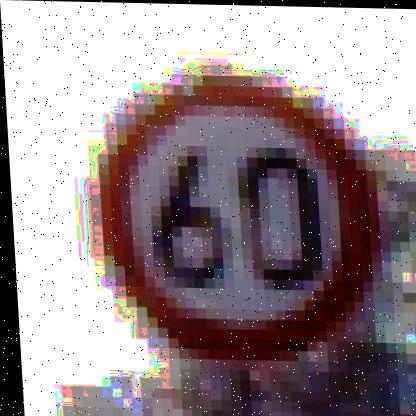Speed Limit -60-: (80, 67, 381, 365)
